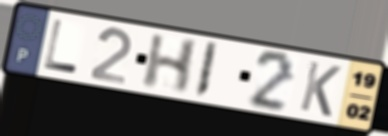2: (247, 48, 301, 115), (88, 26, 135, 87)
H: (139, 33, 202, 96)
I: (192, 40, 221, 101)
K: (297, 59, 344, 120)
L: (42, 17, 81, 76)
